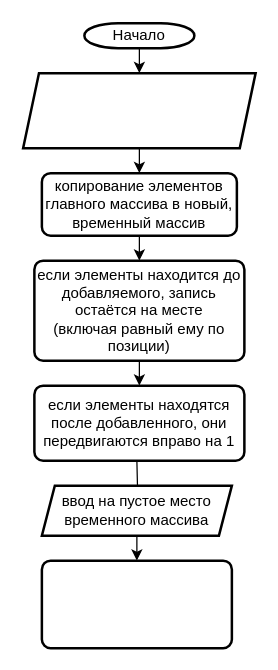
The diagram is 278 pixels wide and 670 high, and some of its shapes have lost their labels. Each missing label, with the box of its shape:
Ввод номера записи перед которой следует вставить элемент: (21, 71, 256, 149)
Копирование временного массива в главный, очистка временного массива: (40, 559, 232, 649)
